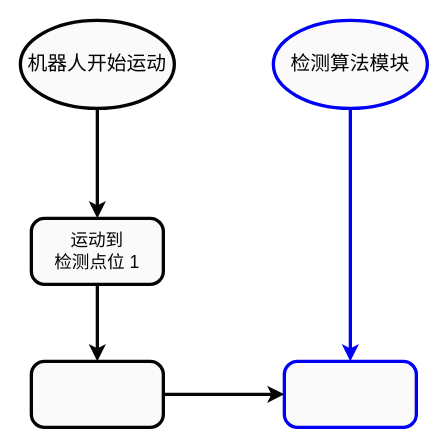
Some shapes in this 448 by 448 pixel diagram are drawn without their labels. The box of each missing label's shape, as (x1, y1, x2, y2) in pixels:
相机开始拍照: (29, 359, 164, 428)
调用对应算法A进行计算: (282, 359, 417, 428)
